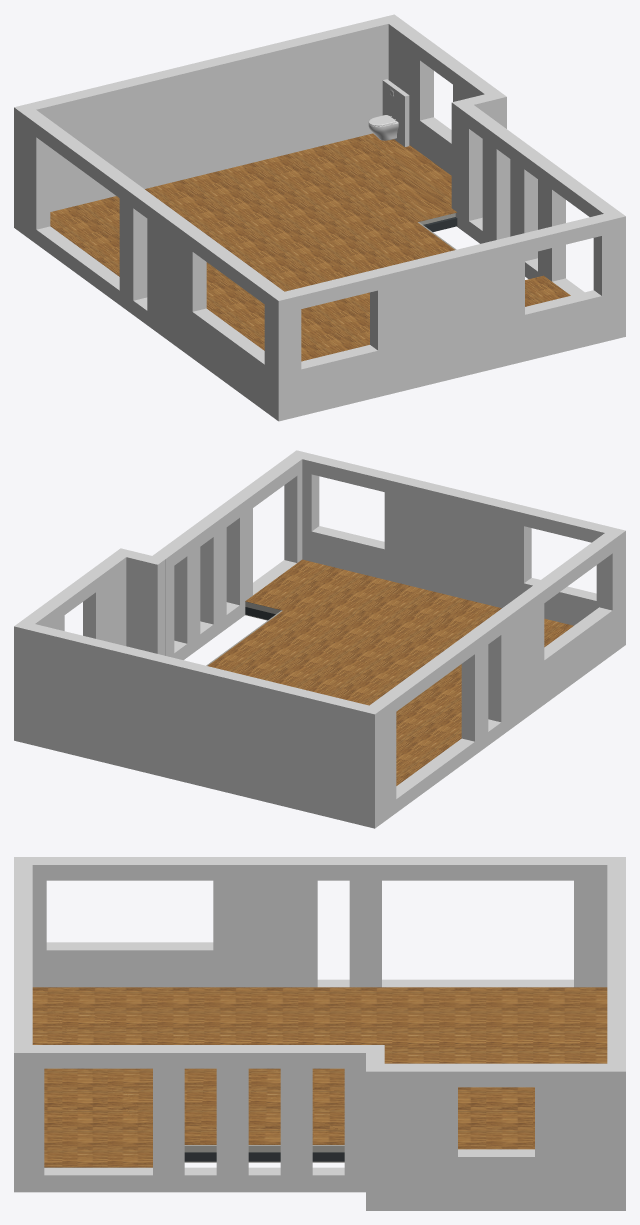
3 views of the same model, one above another, from view 1: azimuth 30°, elevation 25°; view 2: azimuth 150°, elevation 25°; view 3: azimuth 270°, elevation 25° (orthographic). The views are drawn at different scales.
Parts seen in each view (by area): view 1: OG.002, Boden.Parkett.002, toilet.006; view 2: OG.002, Boden.Parkett.002; view 3: OG.002, Boden.Parkett.002, Metall-Träger-Schicht.001, Boden.Orig.001.
Part boxes in pixels (x1=…): OG.002: x1=14, y1=14, x2=625, y2=421; Boden.Parkett.002: x1=50, y1=133, x2=570, y2=361; toilet.006: x1=368, y1=79, x2=409, y2=146; OG.002: x1=14, y1=450, x2=625, y2=828; Boden.Parkett.002: x1=208, y1=559, x2=573, y2=785; OG.002: x1=14, y1=857, x2=625, y2=1210; Boden.Parkett.002: x1=32, y1=987, x2=607, y2=1167; Metall-Träger-Schicht.001: x1=184, y1=1152, x2=344, y2=1161; Boden.Orig.001: x1=184, y1=1145, x2=344, y2=1162.
Size of the model in its own units: 9.92 by 3 by 11.95.
Materials: 6 (1 with a texture image).
